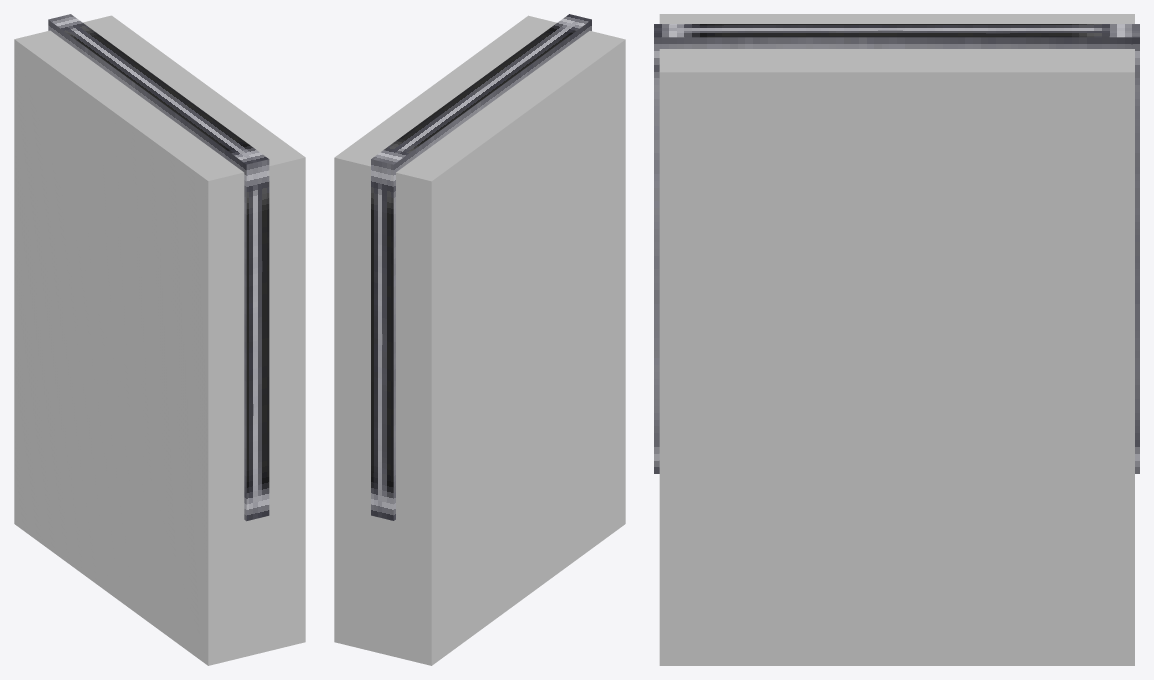
Rendered from doorgrill.glb.
3 views of the same model, side by side, from view 1: azimuth 30°, elevation 25°; view 2: azimuth 150°, elevation 25°; view 3: azimuth 270°, elevation 25° (orthographic). The views are drawn at different scales.
Parts seen in each view (by area): view 1: doorgrill; view 2: doorgrill; view 3: doorgrill.
Part boxes in pixels (box(x1,y1,x2,y2)): doorgrill: box(14, 14, 305, 665); doorgrill: box(334, 14, 625, 665); doorgrill: box(654, 14, 1139, 665).
Size of the model in its own units: 273 by 1325 by 964.
2 materials, 1 textured.
